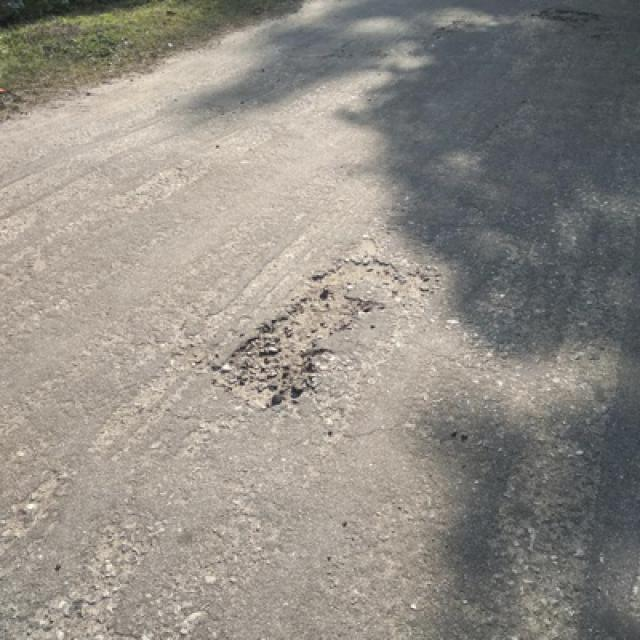jalan_berlubang: (282, 239, 428, 321), (231, 313, 353, 408)
